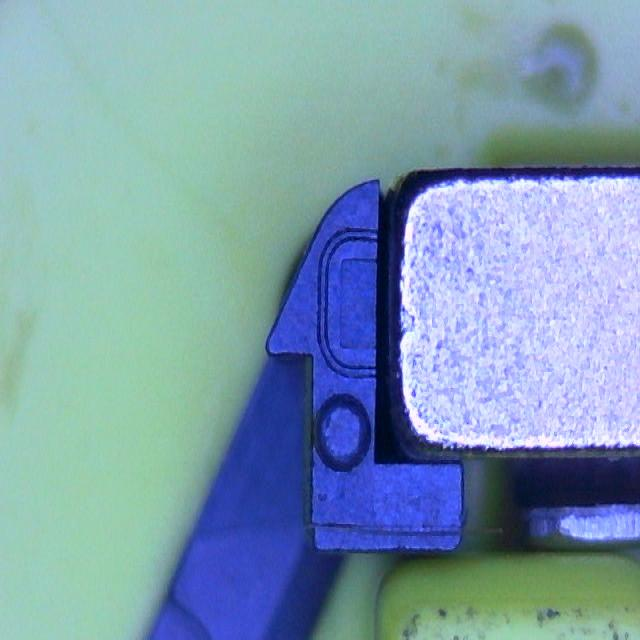noResin: (316, 225, 383, 381)
